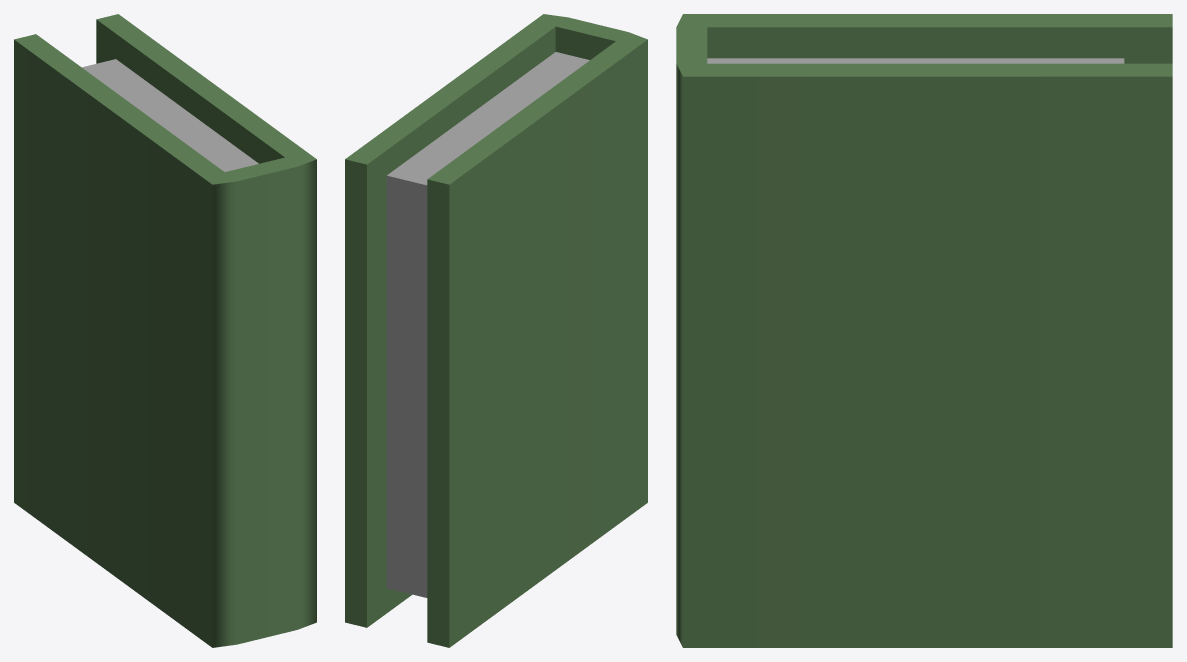
File: mdl_book.fbx
3 renders of one model, left to right at view 1: azimuth 30°, elevation 25°; view 2: azimuth 150°, elevation 25°; view 3: azimuth 270°, elevation 25°, orthographic. The views are drawn at different scales.
Parts seen in each view (by area): view 1: pasted__book; view 2: pasted__book; view 3: pasted__book.
Part boxes in pixels (box(x1,y1,x2,y2)): pasted__book: box(14, 14, 316, 647); pasted__book: box(345, 14, 647, 647); pasted__book: box(676, 14, 1172, 647).
Size of the model in its own units: 6.36 by 26.96 by 21.22.
